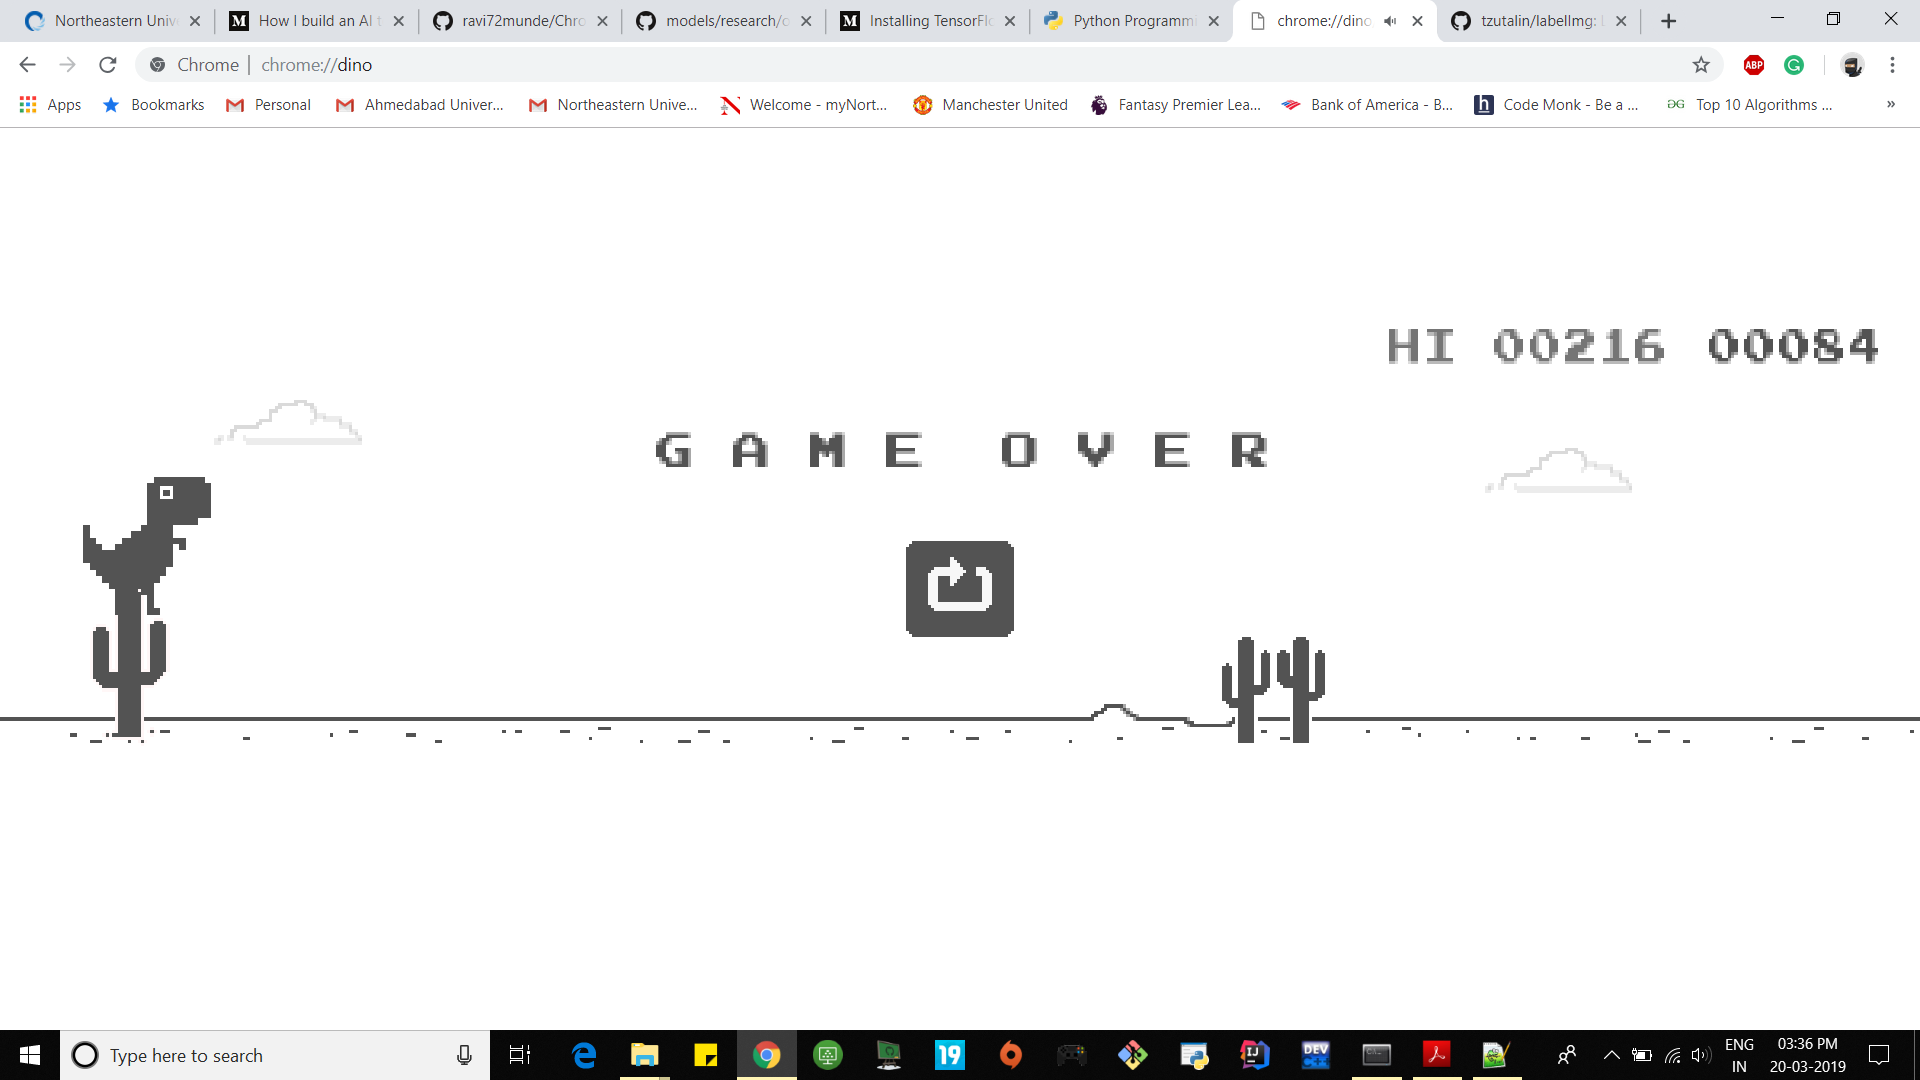cactus-1: (92, 589, 166, 736)
cactus-2: (1221, 633, 1324, 744)
dino: (80, 473, 212, 617)
gameover: (905, 541, 1015, 638)
